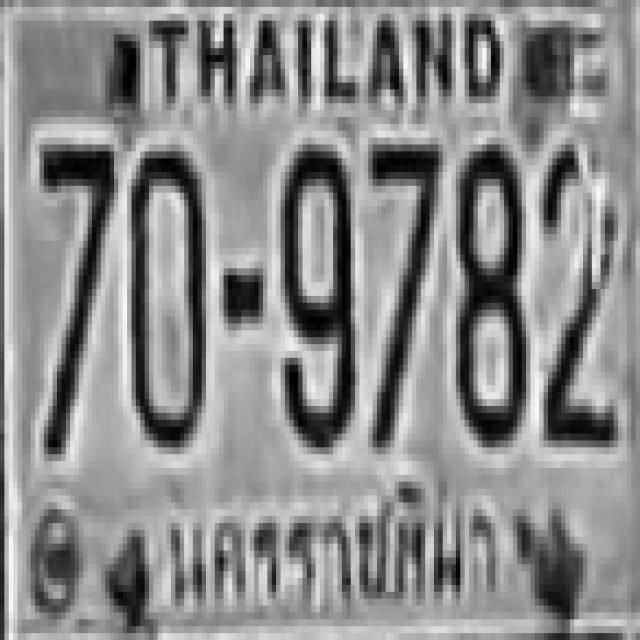0: (127, 144, 202, 440)
2: (537, 141, 616, 444)
7: (37, 138, 112, 447), (368, 141, 438, 444), (39, 141, 114, 354), (368, 138, 438, 364)
8: (452, 137, 522, 440)
9: (276, 137, 351, 440)
NakhonRatchasima: (156, 475, 508, 615)
